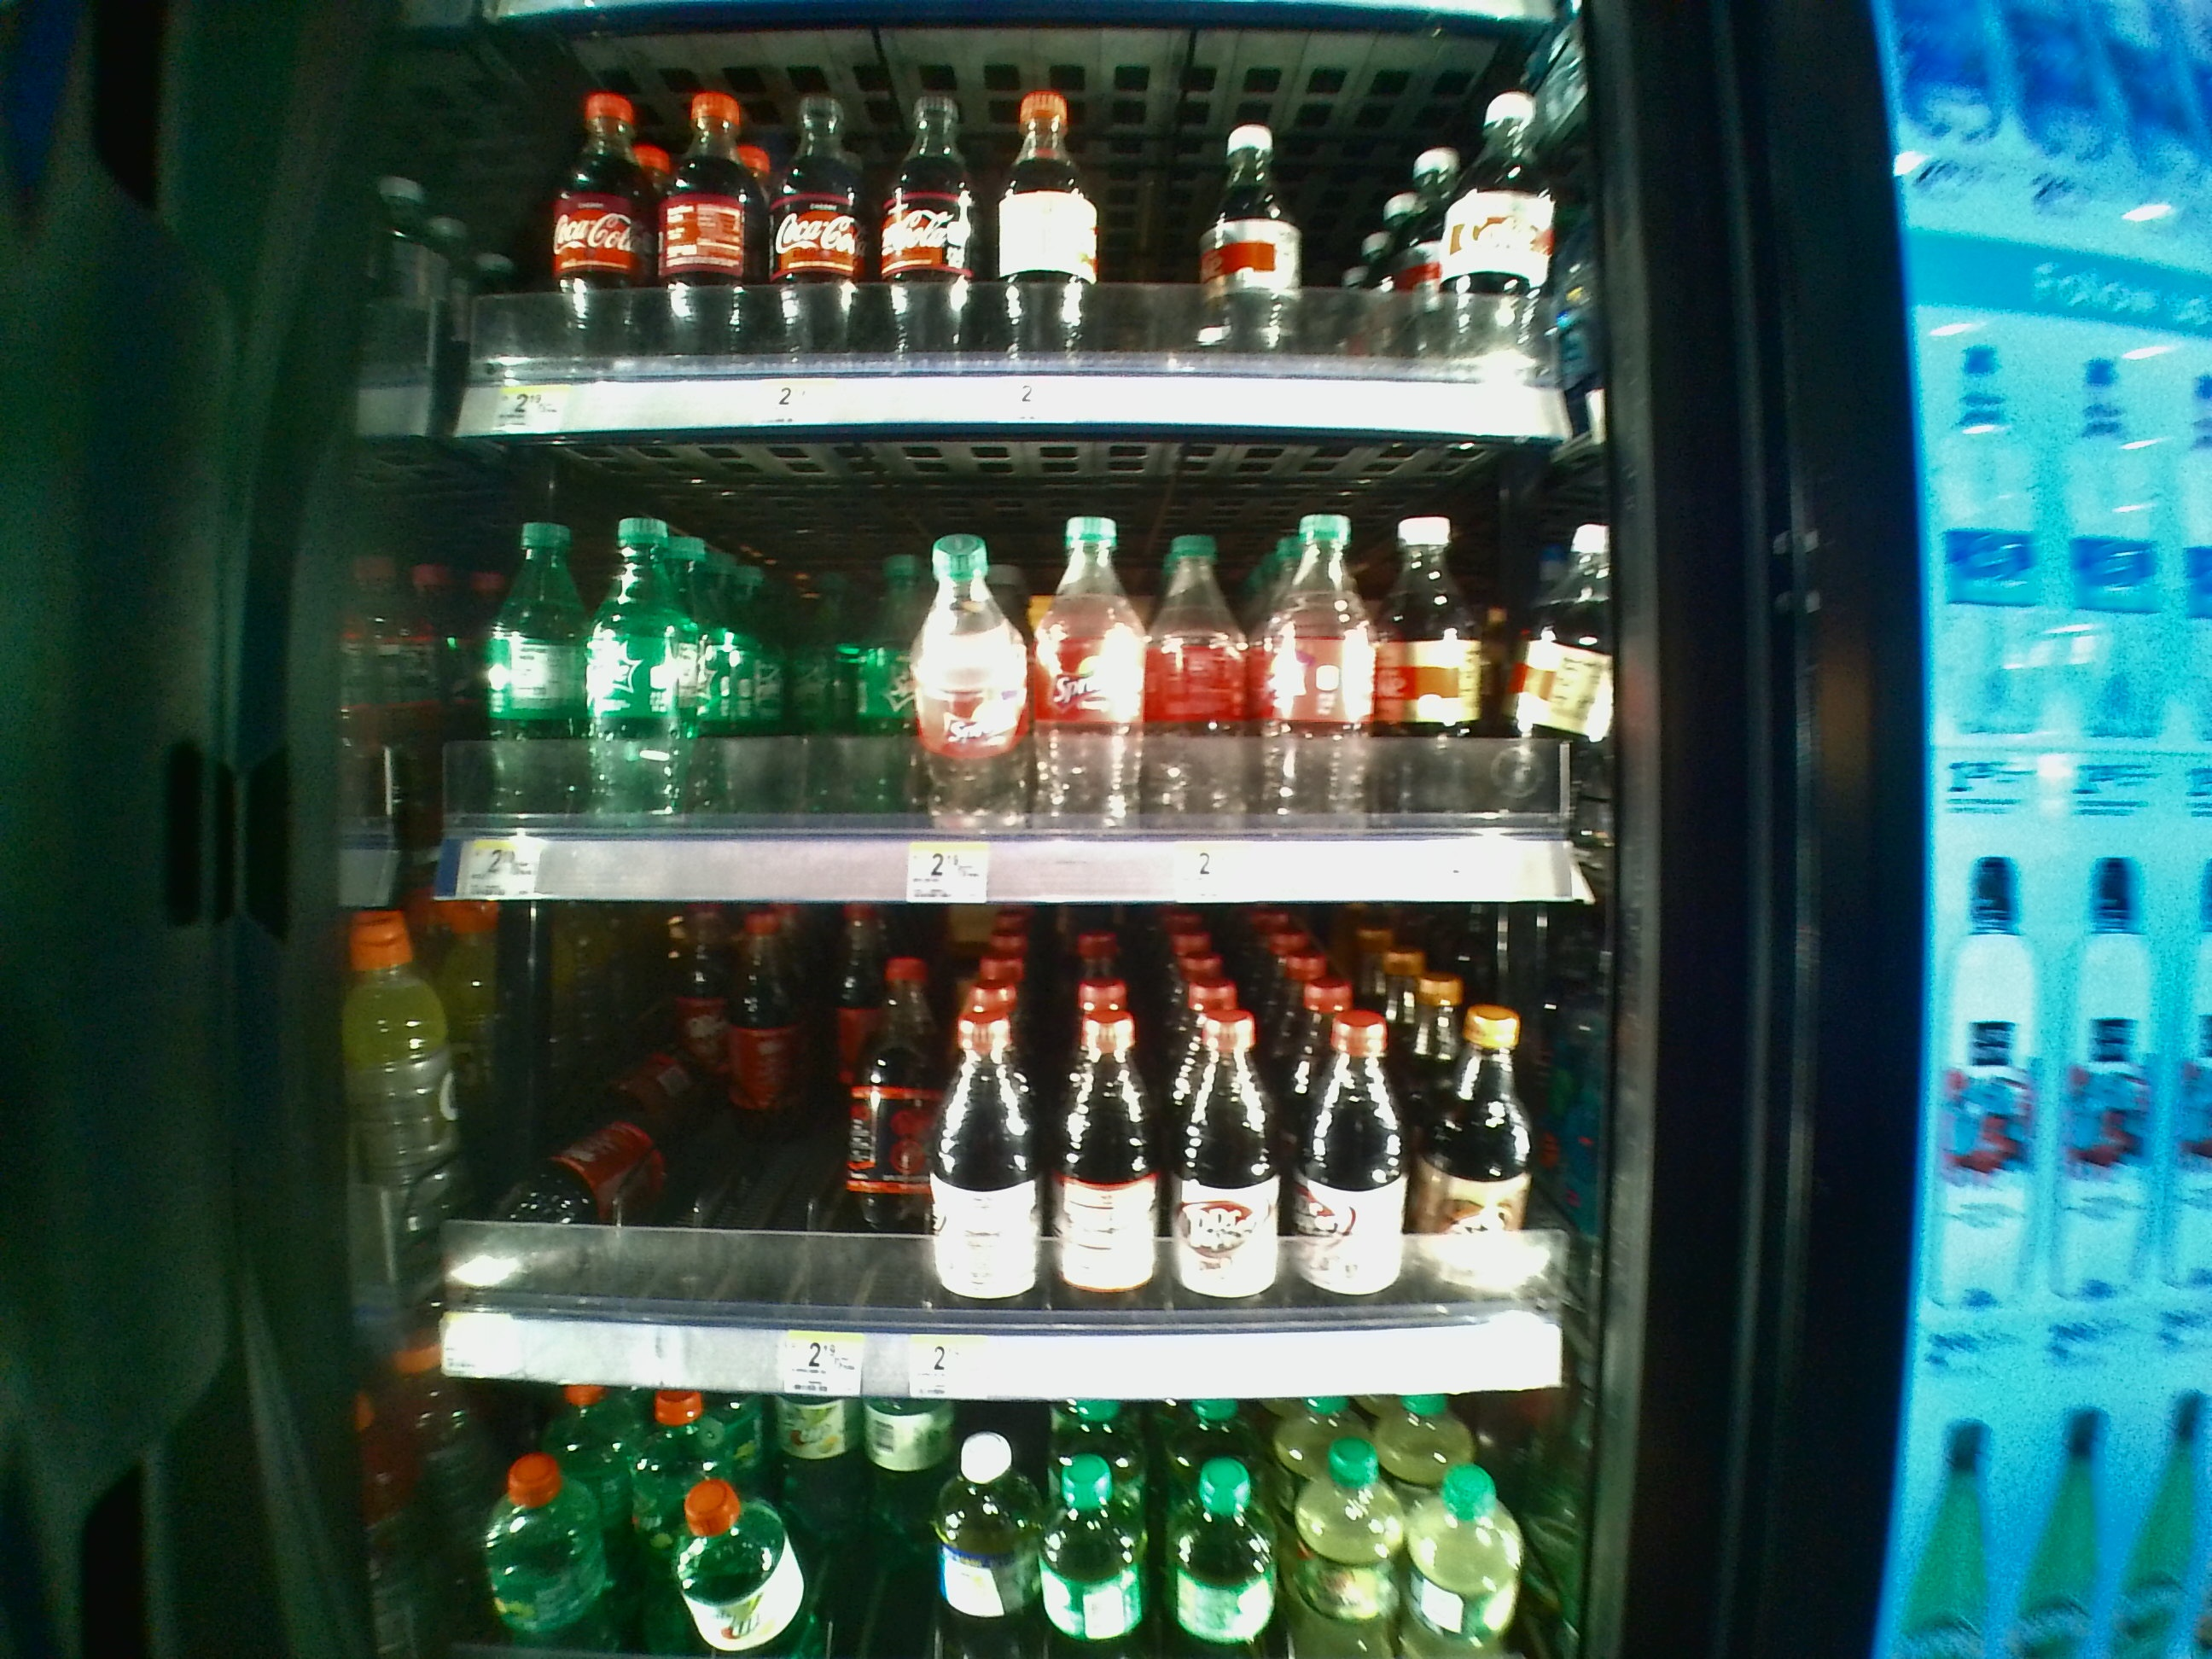shelf: (411, 908, 1609, 1401), (415, 437, 1609, 908)
